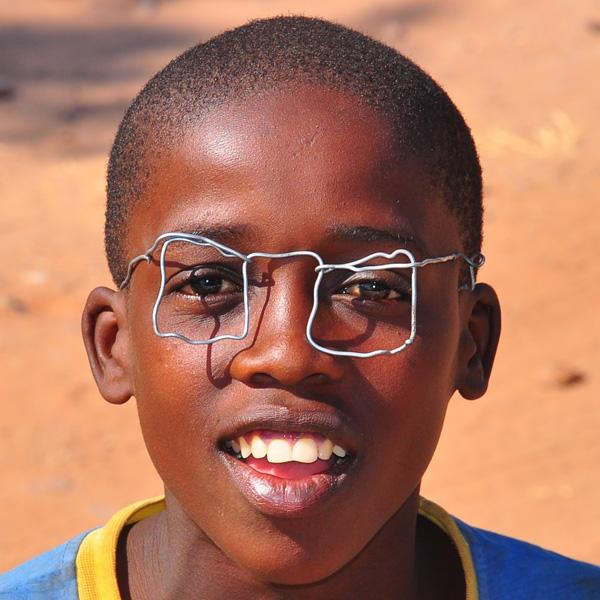Eyes: (158, 254, 253, 311), (322, 266, 418, 314)
